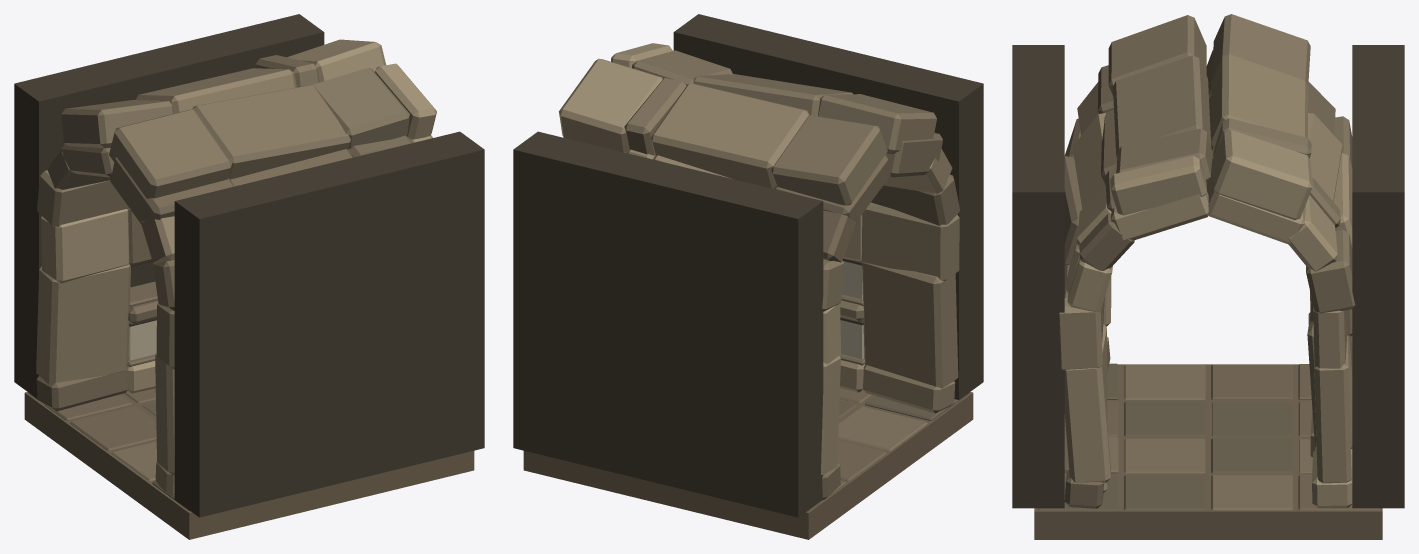
Rendered from cripta-corridoio.glb.
The picture shows the model from 3 angles, left to right: view 1: azimuth 30°, elevation 25°; view 2: azimuth 150°, elevation 25°; view 3: azimuth 270°, elevation 25°; orthographic projection. The views are drawn at different scales.
Parts seen in each view (by area): view 1: cripta-corridoio2; view 2: cripta-corridoio2; view 3: cripta-corridoio2.
Boxes of the visible parts, <box> form: cripta-corridoio2: <box>14,14,484,539</box>; cripta-corridoio2: <box>513,14,983,539</box>; cripta-corridoio2: <box>1012,14,1404,539</box>.
Bounding box in the file's own units: 4.08 × 4.84 × 4.5.
